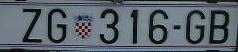-: (173, 25, 182, 31)
1: (129, 9, 138, 44)
3: (98, 8, 118, 44)
6: (148, 9, 166, 45)
B: (209, 9, 229, 45)
G: (186, 9, 204, 44)
Z: (22, 7, 44, 43), (48, 8, 68, 44)
